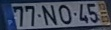4: (78, 3, 89, 24)
5: (85, 3, 99, 24)
7: (23, 5, 35, 28), (11, 5, 23, 28)
N: (40, 4, 58, 26)
O: (57, 3, 72, 25)
